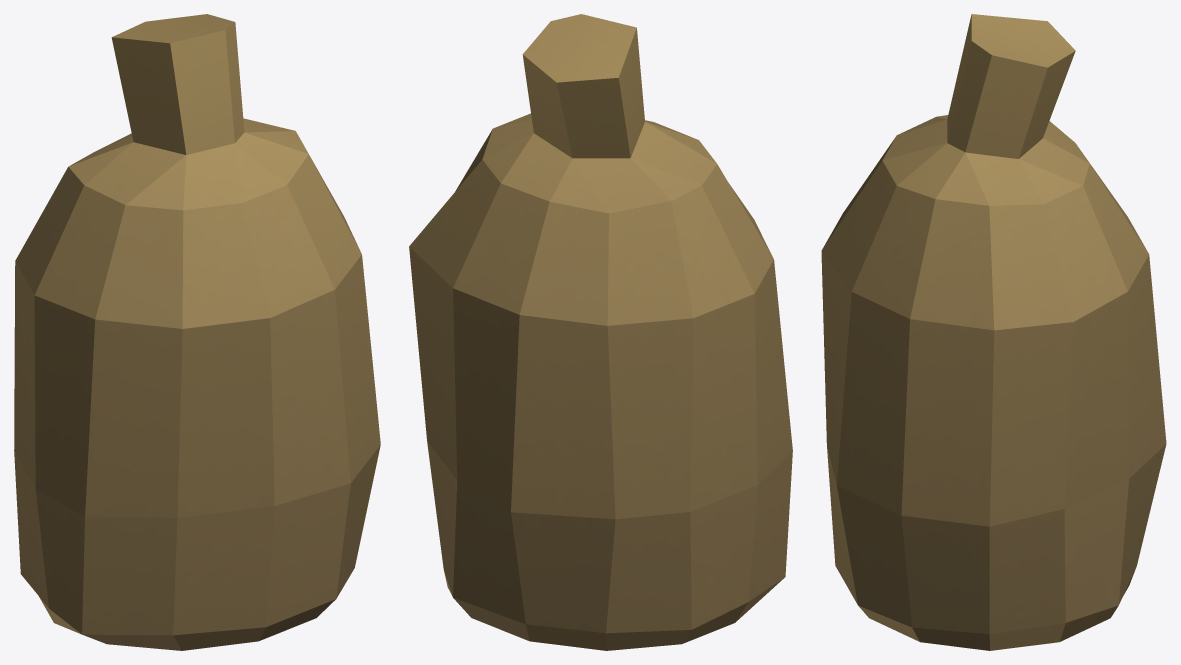
Rendered from Sack_2_LOD1.fbx.
3 views of the same model, side by side, from view 1: azimuth 30°, elevation 25°; view 2: azimuth 150°, elevation 25°; view 3: azimuth 270°, elevation 25° (orthographic).
Parts seen in each view (by area): view 1: polySurface9684; view 2: polySurface9684; view 3: polySurface9684.
Boxes of the visible parts, bbox=[...] form: polySurface9684: bbox=[14, 14, 380, 650]; polySurface9684: bbox=[409, 14, 792, 650]; polySurface9684: bbox=[821, 14, 1166, 650].
Size of the model in its own units: 85.82 by 141 by 79.01.
